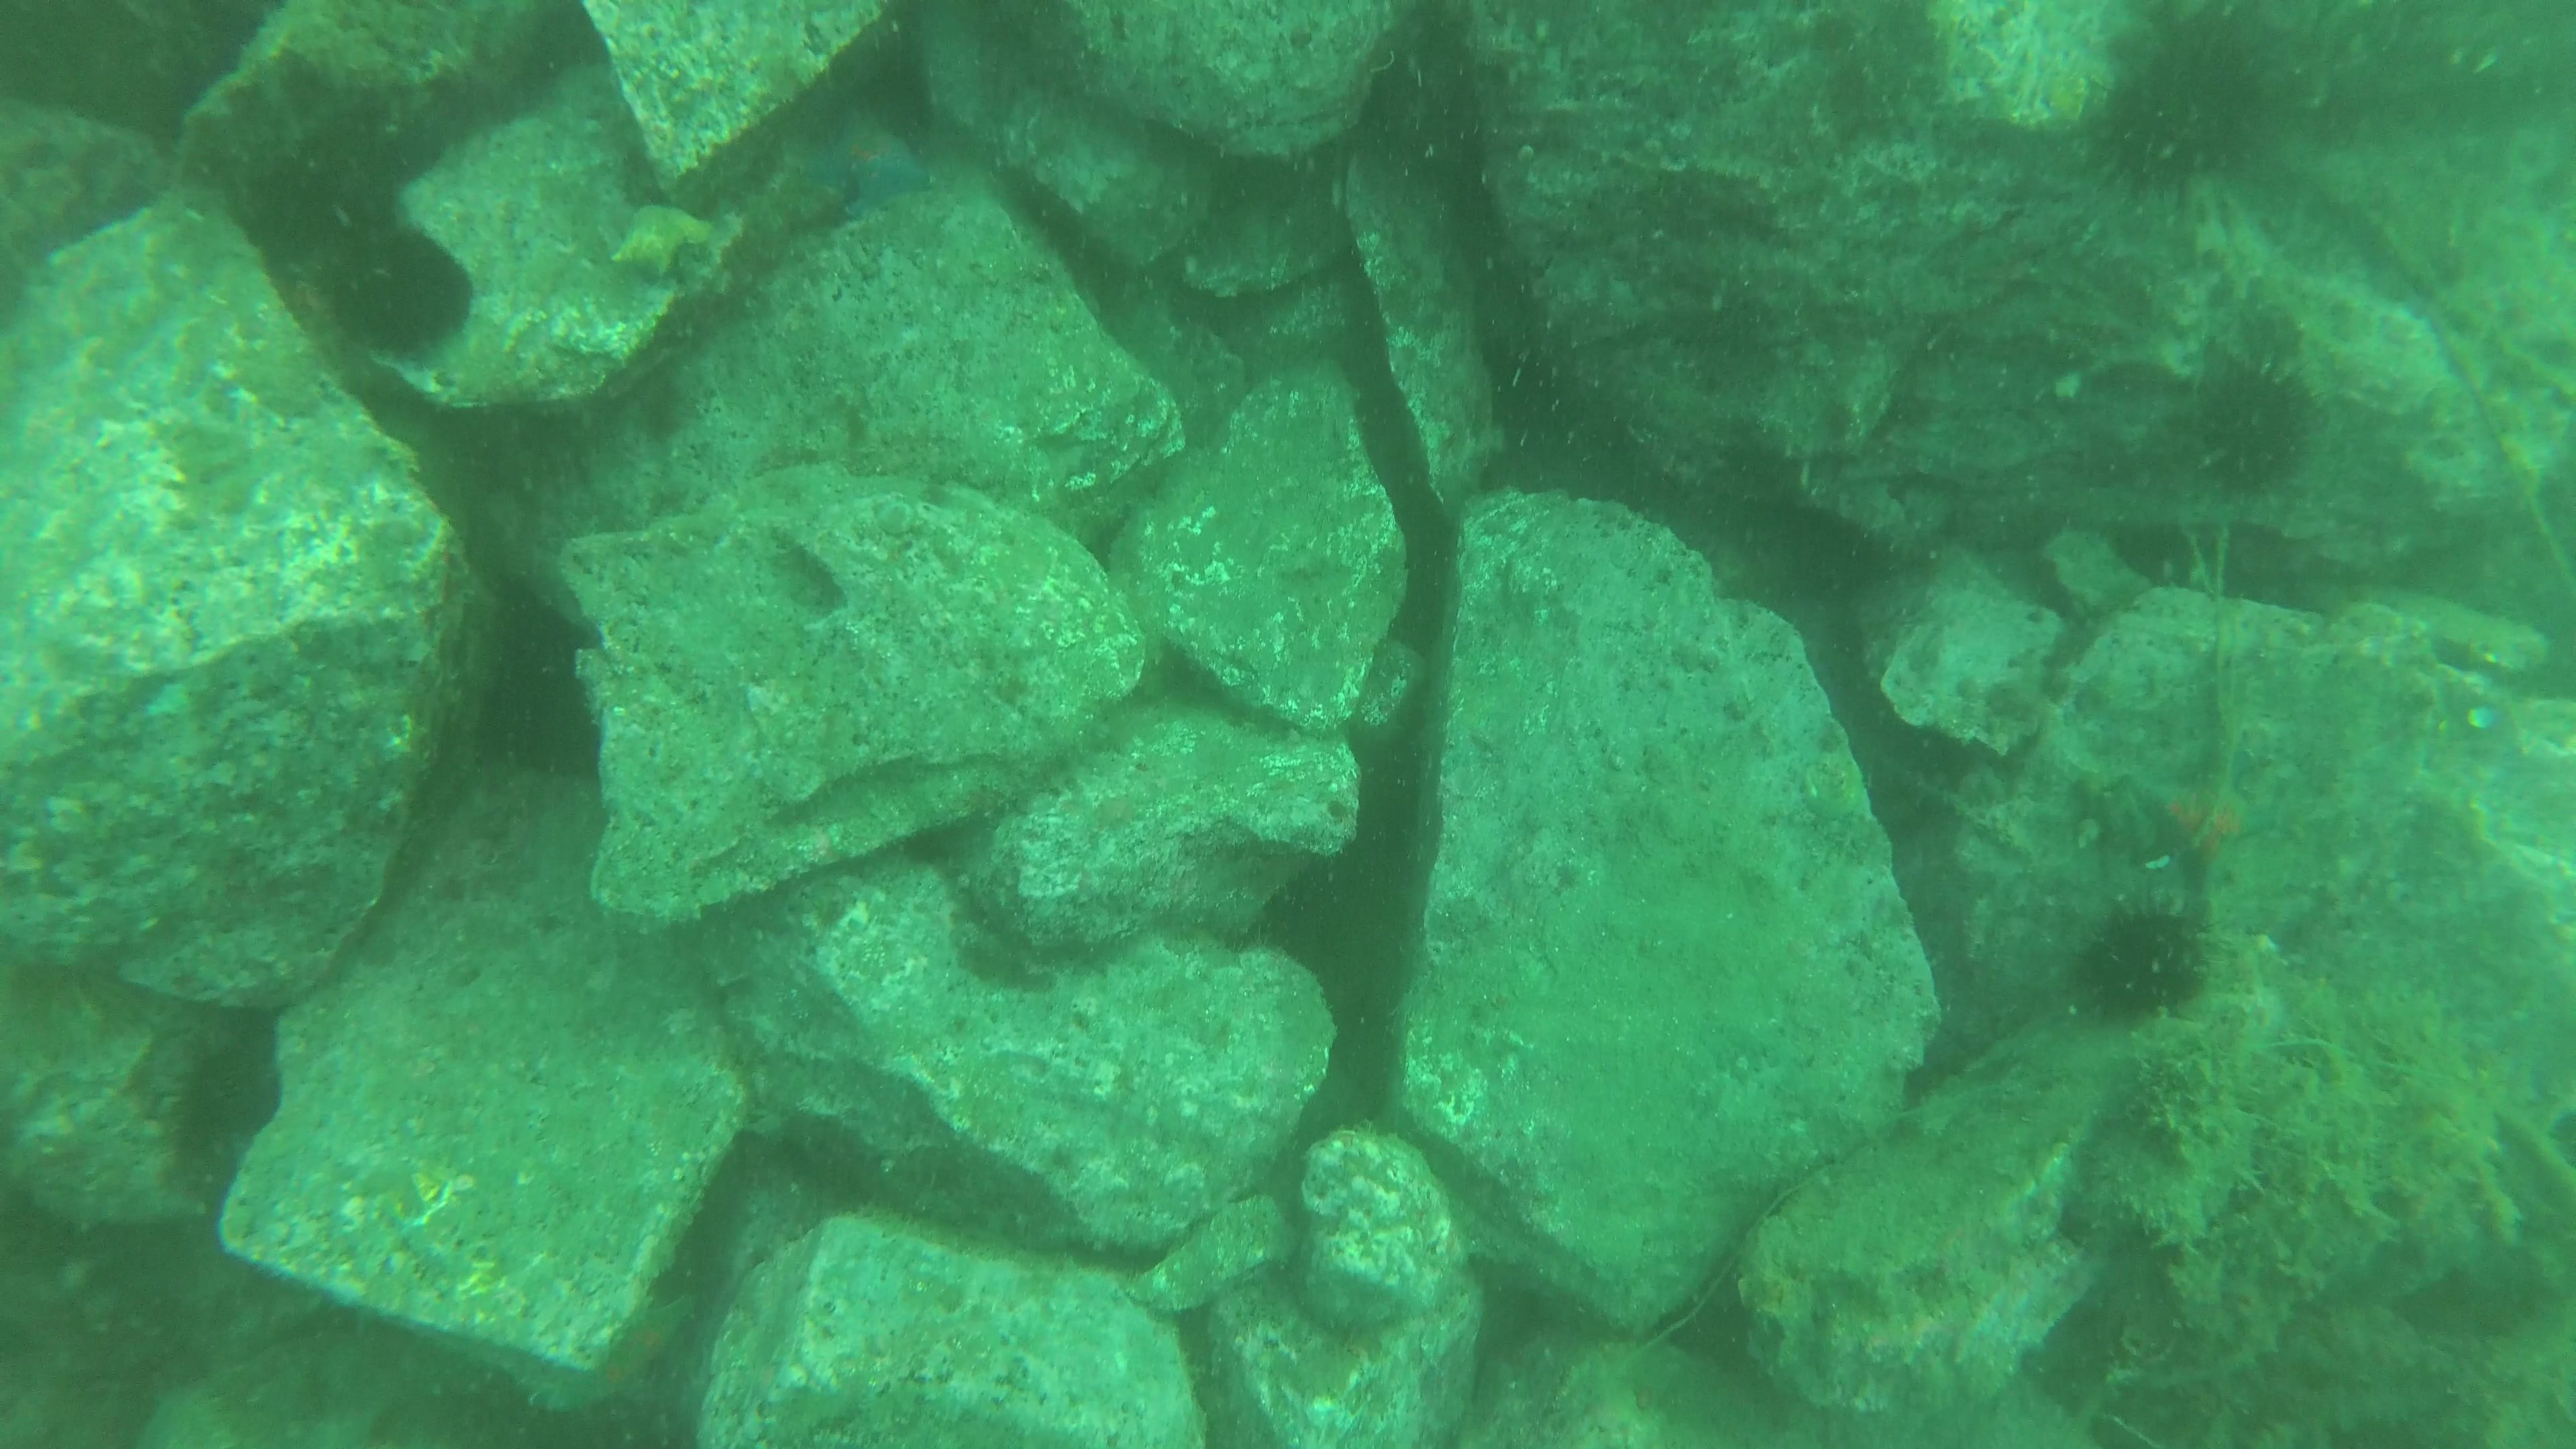echinus: (2070, 28, 2275, 200), (2171, 336, 2337, 515), (313, 195, 483, 364), (166, 1024, 288, 1200), (2061, 895, 2203, 1037)
starfish: (2128, 741, 2284, 888), (552, 1292, 697, 1417), (798, 103, 947, 214)
